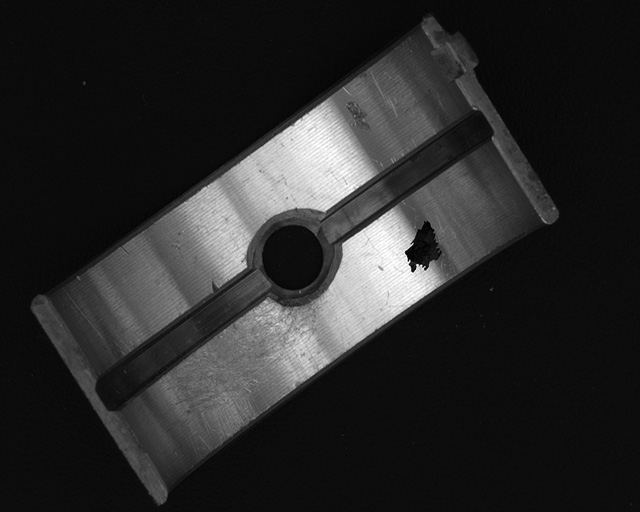blot: (404, 219, 444, 273)
bruise: (345, 100, 375, 134), (210, 279, 220, 293)
gap: (97, 270, 271, 408), (326, 113, 492, 240)
hole: (252, 216, 338, 300)
scratch: (165, 291, 324, 435)
